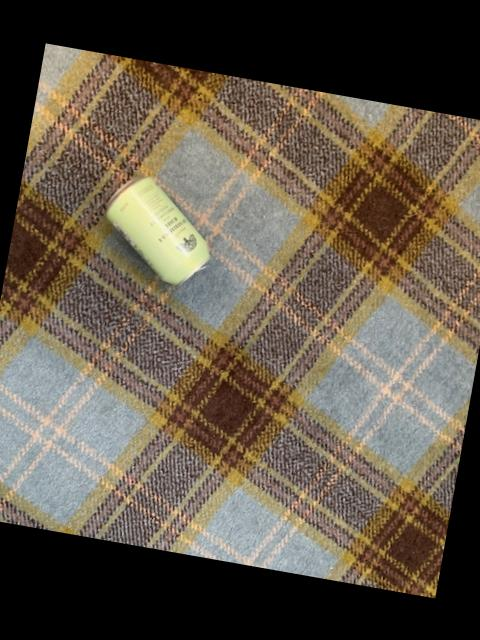metal: (108, 178, 210, 285)
